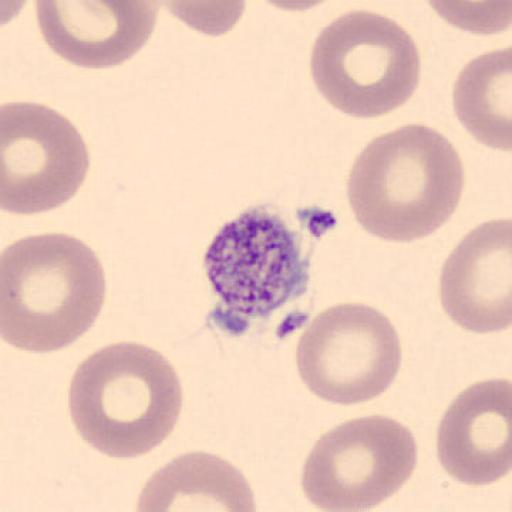Platelet: (199, 202, 316, 337)
RBC: (345, 121, 466, 244), (66, 339, 184, 462), (2, 230, 108, 357), (308, 8, 422, 120), (298, 412, 420, 512), (294, 300, 403, 408), (3, 98, 91, 217), (438, 216, 512, 336), (34, 1, 158, 70), (435, 376, 512, 487), (134, 448, 259, 512), (451, 46, 512, 152), (159, 0, 249, 38), (424, 1, 512, 37), (251, 0, 345, 13), (1, 0, 32, 30)
